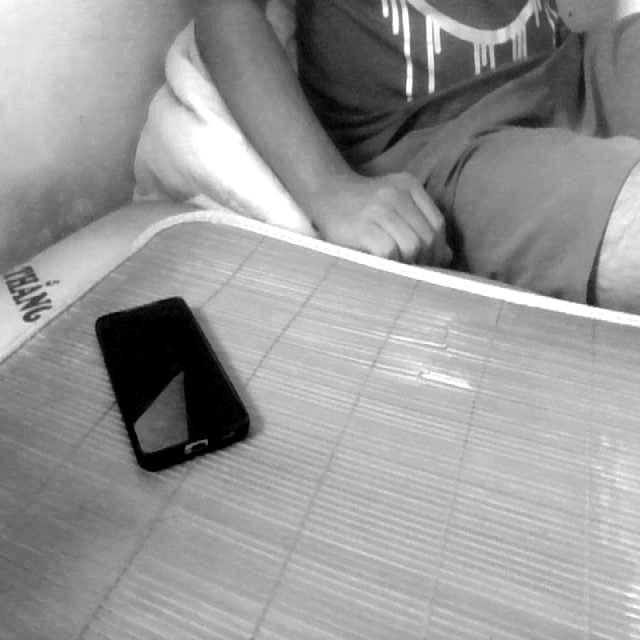phone: (82, 272, 263, 498)
